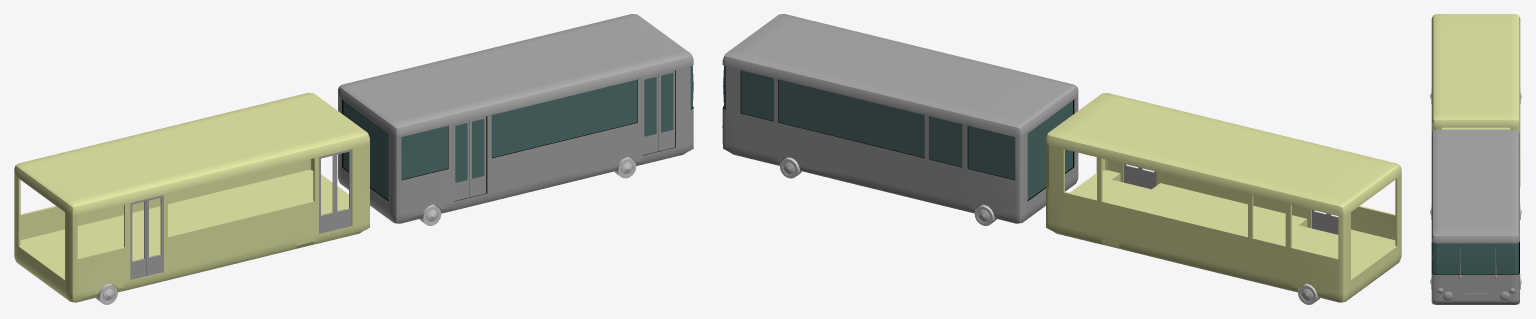
Rendered from BusNew.fbx.
3 views of the same model, side by side, from view 1: azimuth 30°, elevation 25°; view 2: azimuth 150°, elevation 25°; view 3: azimuth 270°, elevation 25° (orthographic). The views are drawn at different scales.
Visible parts, largest first — view 1: BusEND, BusFRONT, GlassFront, Glass2 (×2), Glass3 (×2), RDEB, RDFB, RDFB1, LDEB, LDEF, RDEF, LDFB1 (+1 smaller); view 2: BusEND, BusFRONT, GlassFront; view 3: BusFRONT, BusEND, GlassFront, Far1, Number.
Part boxes in pixels (x1=…): BusEND: x1=14, y1=92, x2=369, y2=302; BusFRONT: x1=338, y1=14, x2=693, y2=223; GlassFront: x1=343, y1=65, x2=693, y2=199; Glass2 (×2): x1=455, y1=77, x2=656, y2=182; Glass3 (×2): x1=472, y1=73, x2=672, y2=178; RDEB: x1=146, y1=195, x2=163, y2=275; RDFB: x1=469, y1=116, x2=486, y2=197; RDFB1: x1=658, y1=70, x2=675, y2=150; LDEB: x1=130, y1=199, x2=146, y2=279; LDEF: x1=319, y1=153, x2=335, y2=233; RDEF: x1=335, y1=149, x2=351, y2=229; LDFB1: x1=642, y1=74, x2=658, y2=154; BusEND: x1=1046, y1=93, x2=1401, y2=302; BusFRONT: x1=722, y1=14, x2=1078, y2=223; GlassFront: x1=723, y1=65, x2=1072, y2=199; BusFRONT: x1=1431, y1=129, x2=1519, y2=304; BusEND: x1=1431, y1=14, x2=1520, y2=186; GlassFront: x1=1432, y1=242, x2=1518, y2=274; Far1: x1=1436, y1=287, x2=1515, y2=301; Number: x1=1465, y1=293, x2=1489, y2=298.
Bounding box in the file's own units: 0.895 × 0.1459 × 0.1547.
